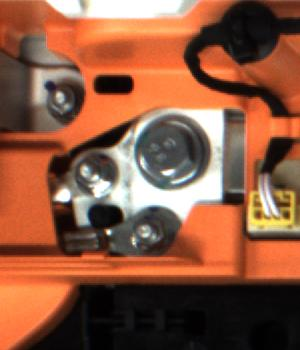nut_b: (132, 111, 215, 192)
